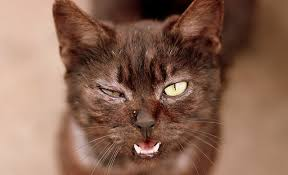cat: (42, 1, 237, 175)
